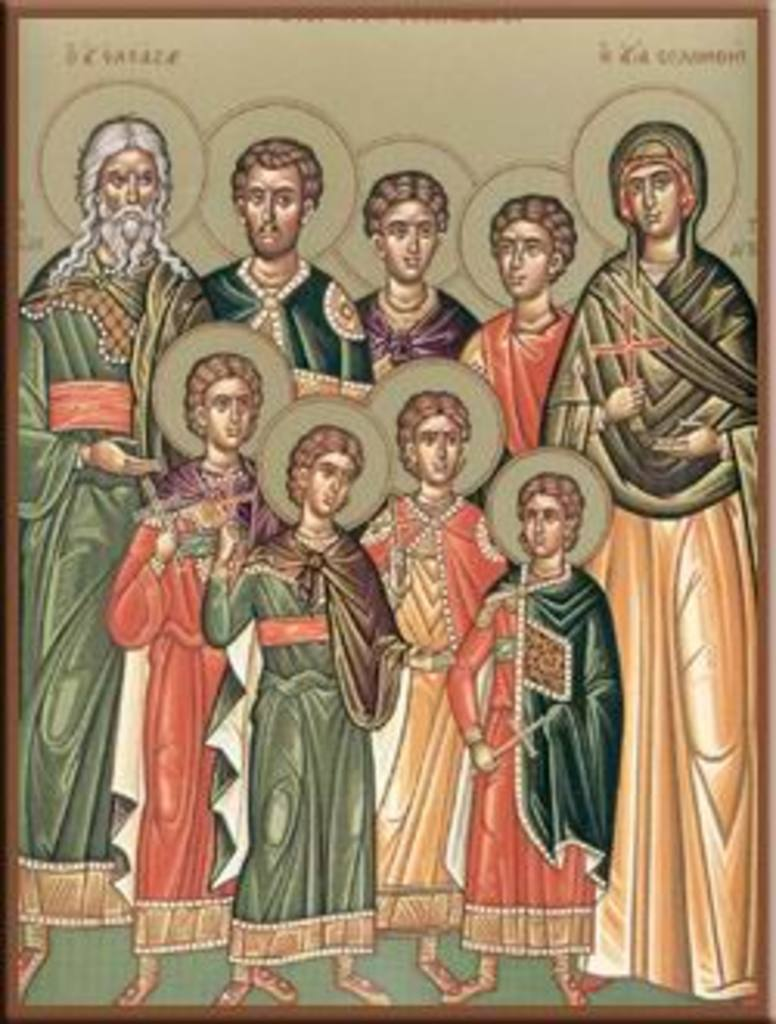Person: (17, 80, 758, 1018)
